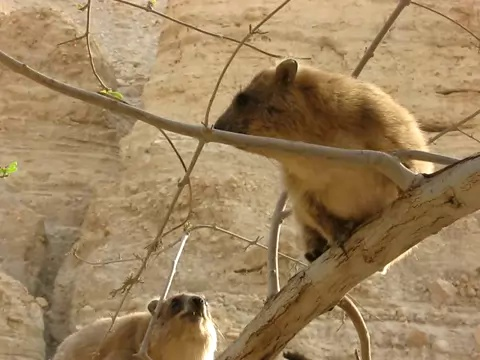Rock Hyrex: (212, 58, 438, 264), (49, 292, 220, 360)
